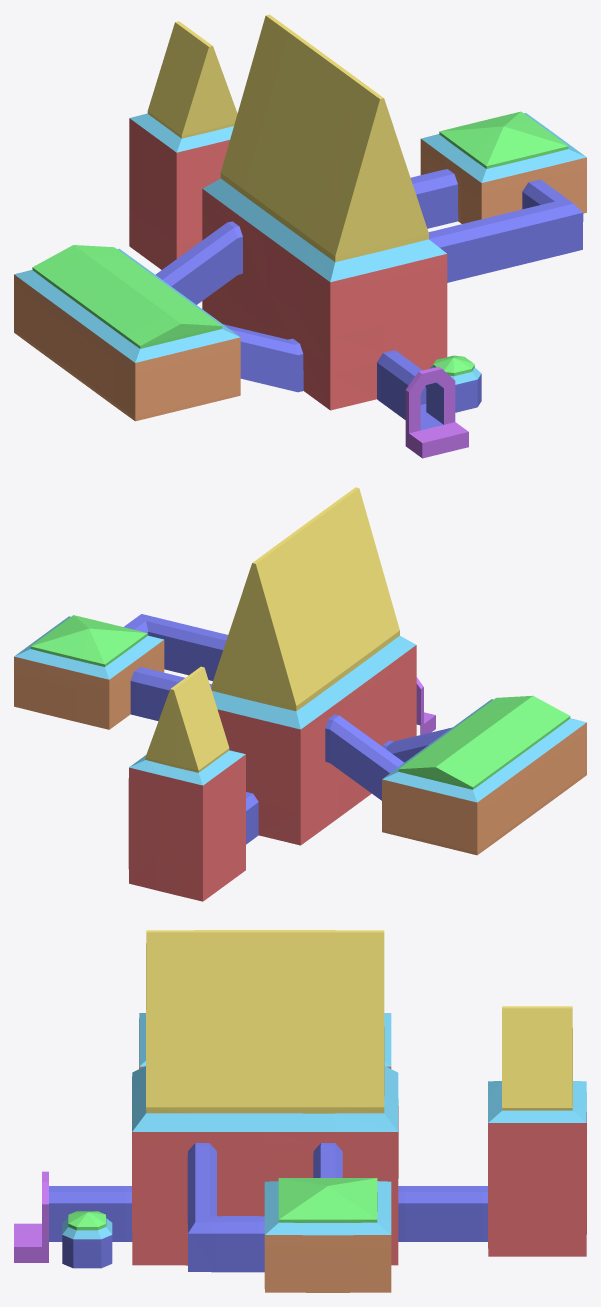
File: building_lp.FBX
The picture shows the model from 3 angles, top to bottom: view 1: azimuth 30°, elevation 25°; view 2: azimuth 150°, elevation 25°; view 3: azimuth 270°, elevation 25°; orthographic projection. The views are drawn at different scales.
Visible parts, largest first — view 1: level_building; view 2: level_building; view 3: level_building.
Boxes of the visible parts, left/top/right/bottom form: level_building: left=14, top=14, right=586, bottom=458; level_building: left=14, top=487, right=586, bottom=901; level_building: left=14, top=930, right=586, bottom=1292.
Size of the model in its own units: 1736 by 1616 by 996.
